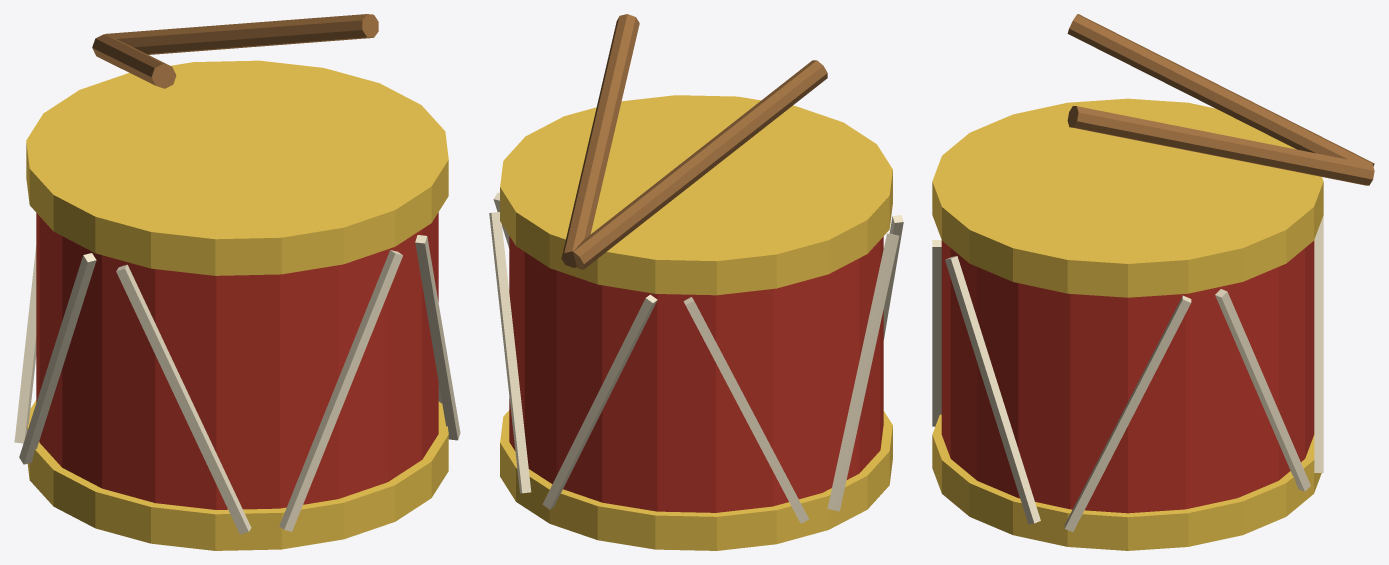
The model's file is Drum.glb.
The picture shows the model from 3 angles, left to right: view 1: azimuth 30°, elevation 25°; view 2: azimuth 150°, elevation 25°; view 3: azimuth 270°, elevation 25°; orthographic projection. The views are drawn at different scales.
Parts seen in each view (by area): view 1: Drum; view 2: Drum; view 3: Drum.
Part boxes in pixels (<box>): Drum: <box>14,14,460,550</box>; Drum: <box>489,14,903,550</box>; Drum: <box>932,14,1374,550</box>.
Bounding box in the file's own units: 0.42 × 0.4833 × 0.4748.
